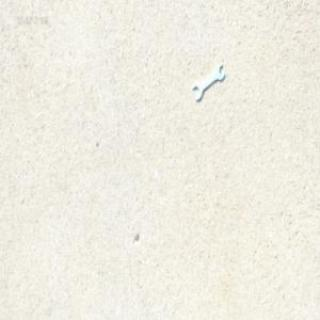Wrenchtrack_idkeyframe: (193, 63, 224, 101)
